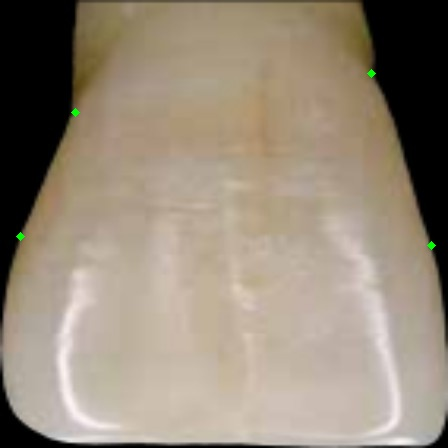coin_1: (371, 73, 391, 93)
coin_2: (431, 245, 448, 265)
coin_3: (75, 112, 95, 132)
coin_4: (20, 236, 40, 256)
